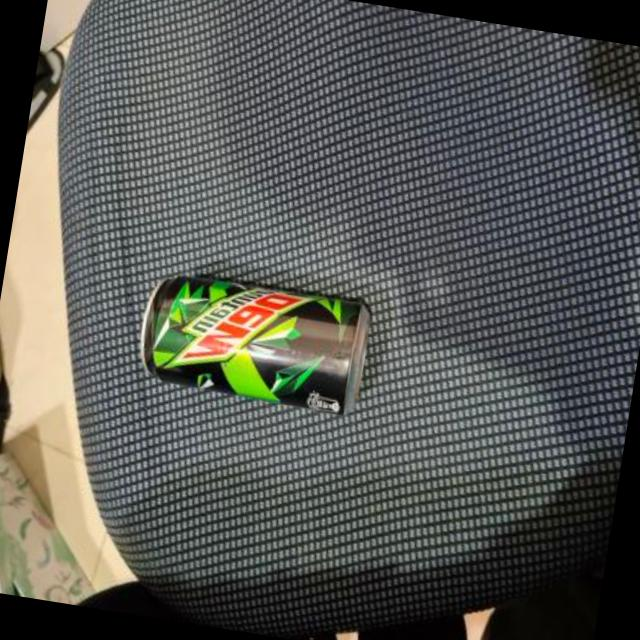metal: (138, 274, 366, 411)
